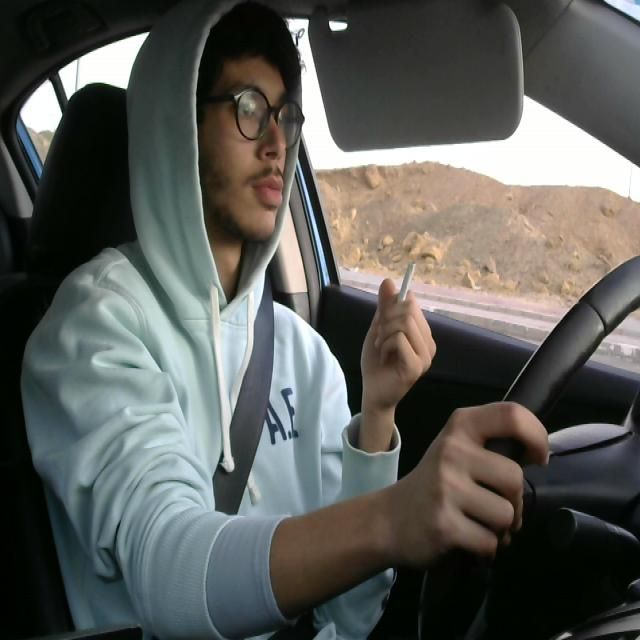smoking: (393, 258, 419, 332)
